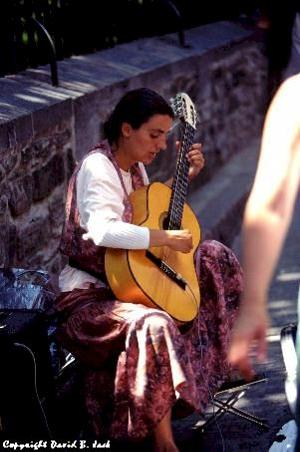person: (58, 86, 244, 450)
